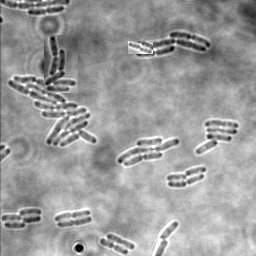Dividing: (167, 175, 204, 189), (99, 238, 128, 255), (54, 209, 90, 222), (56, 217, 92, 228), (27, 7, 64, 17), (128, 41, 153, 54)
Microcolony: (7, 76, 98, 147), (44, 35, 78, 93), (117, 137, 180, 168), (135, 32, 211, 57), (195, 120, 238, 155), (1, 208, 42, 229)
Rod: (106, 233, 135, 251), (157, 222, 178, 240), (184, 167, 206, 177), (166, 174, 187, 183)
